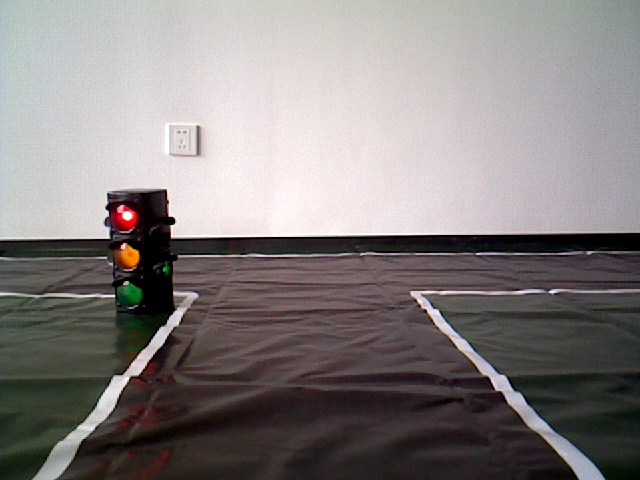red: (108, 195, 168, 314)
